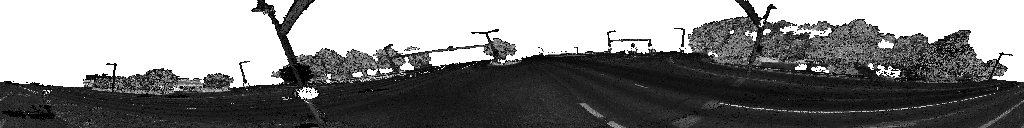gantry_sign_pole: (267, 0, 314, 88), (736, 0, 774, 76), (401, 43, 501, 63), (611, 37, 652, 55)
light_pole: (986, 53, 1012, 86), (313, 58, 331, 87), (469, 29, 500, 44), (385, 43, 399, 75), (239, 62, 249, 93), (106, 64, 116, 95), (674, 29, 685, 56), (607, 31, 615, 51), (42, 90, 51, 98)
traffic_pole: (497, 59, 507, 66), (624, 52, 629, 59)
